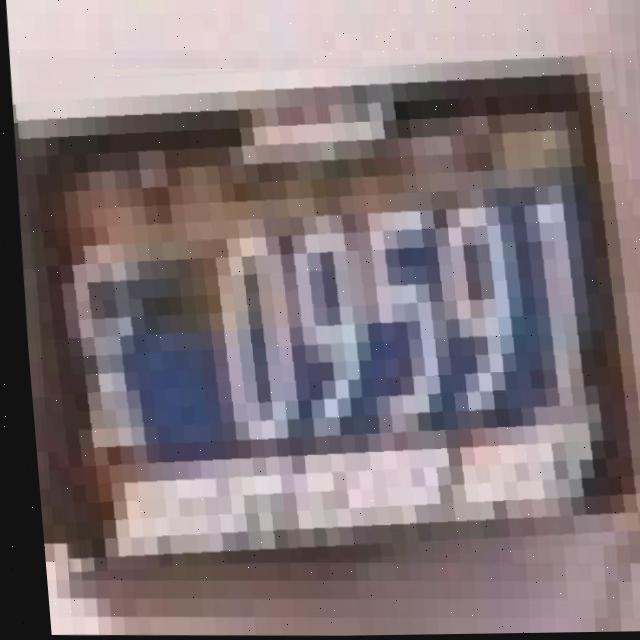LicensePlate: (7, 50, 640, 575)
